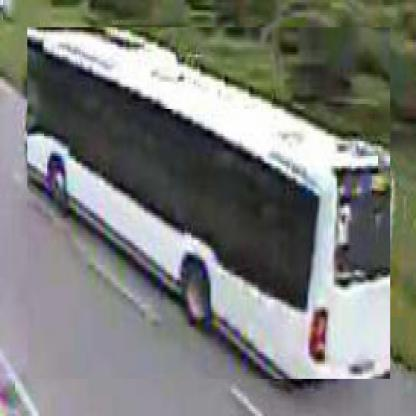bus: (28, 29, 393, 383)
